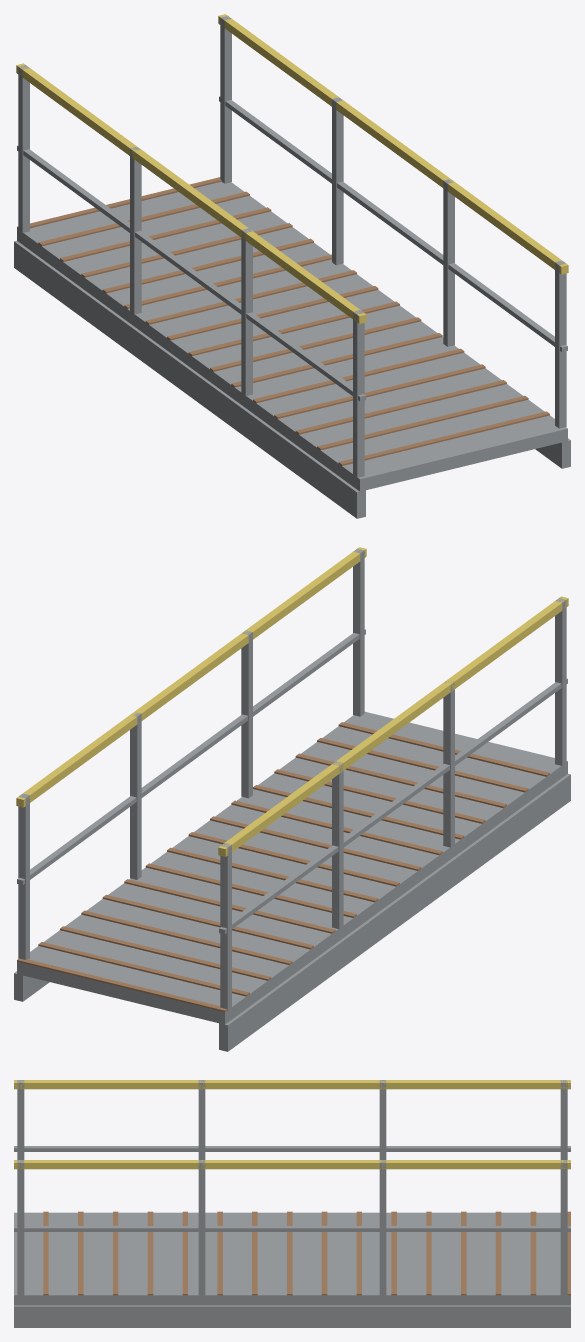
The model's file is kit_catwalk.glb.
3 views of the same model, one above another, from view 1: azimuth 30°, elevation 25°; view 2: azimuth 150°, elevation 25°; view 3: azimuth 270°, elevation 25° (orthographic). The views are drawn at different scales.
Parts seen in each view (by area): view 1: kit_catwalk; view 2: kit_catwalk; view 3: kit_catwalk.
Part boxes in pixels (x1,y1,x2,y2): kit_catwalk: [14, 14, 570, 518]; kit_catwalk: [14, 547, 570, 1051]; kit_catwalk: [14, 1080, 570, 1327].
Size of the model in its own units: 1.44 by 1.3 by 4.
